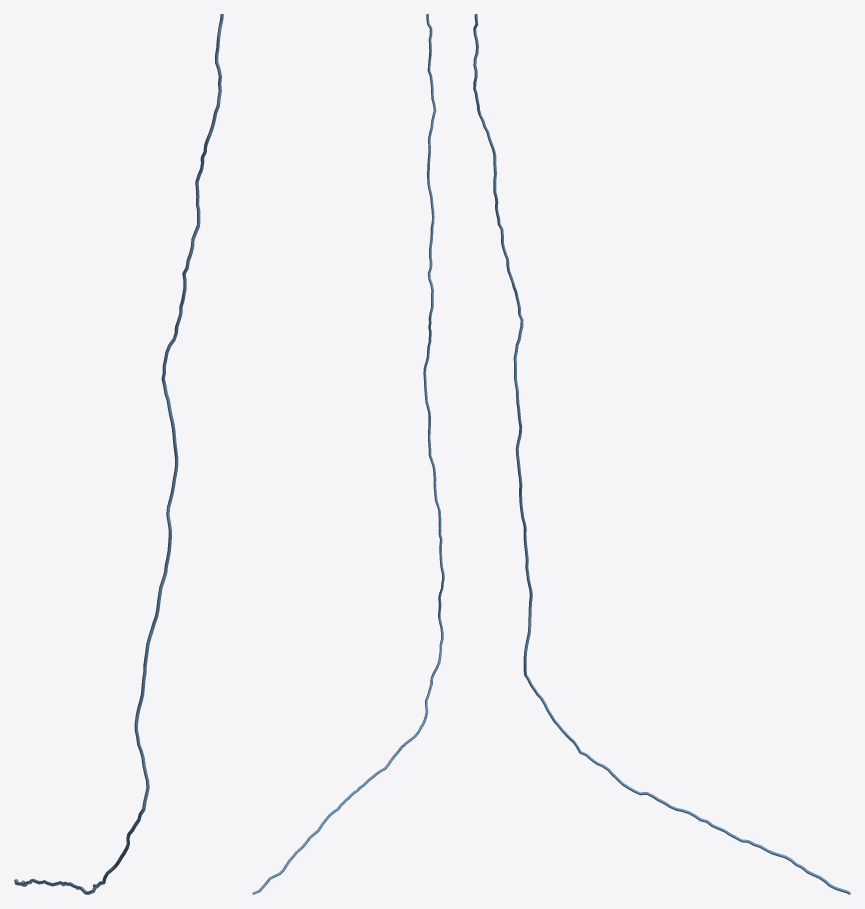
Rendered from sweep3.fbx.
3 views of the same model, side by side, from view 1: azimuth 30°, elevation 25°; view 2: azimuth 150°, elevation 25°; view 3: azimuth 270°, elevation 25° (orthographic). The views are drawn at different scales.
Visible parts, largest first — view 1: sweep3; view 2: sweep3; view 3: sweep3.
Boxes of the visible parts, x1,y1,x2,y2 form: sweep3: (14, 14, 223, 894); sweep3: (252, 14, 444, 894); sweep3: (473, 14, 850, 894).
Bounding box in the file's own units: 0.4887 × 6.38 × 2.5.
